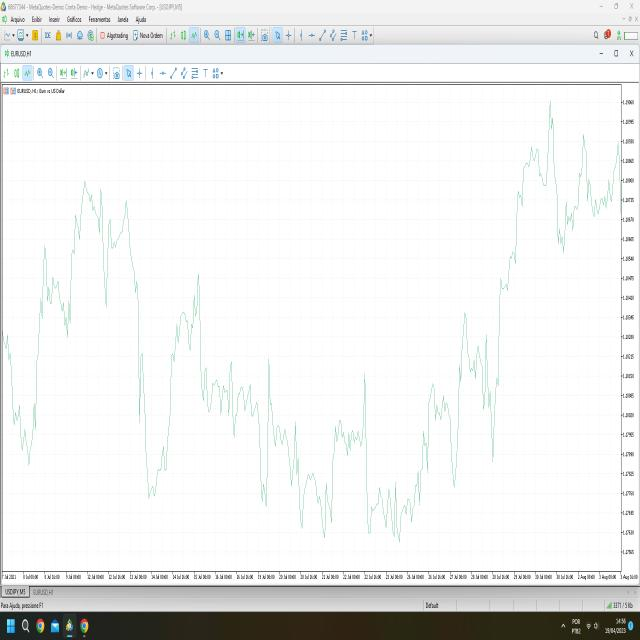fundo_duplo: (440, 278, 504, 494)
oco: (27, 157, 147, 387)
